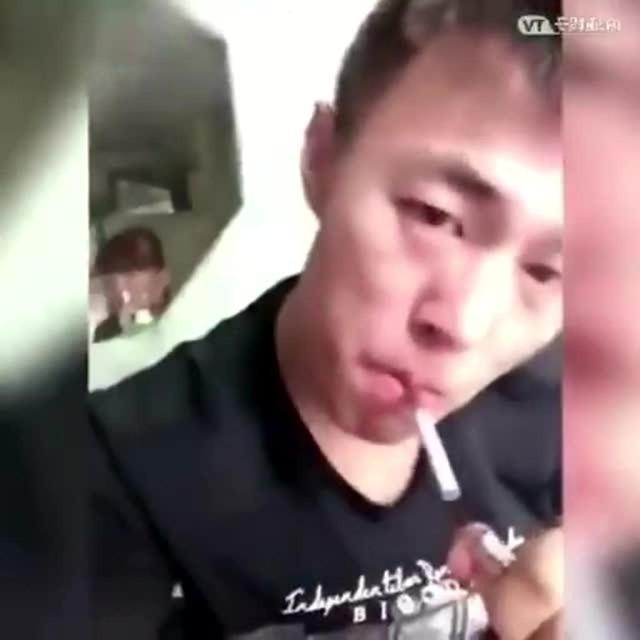smoking: (296, 41, 560, 513)
